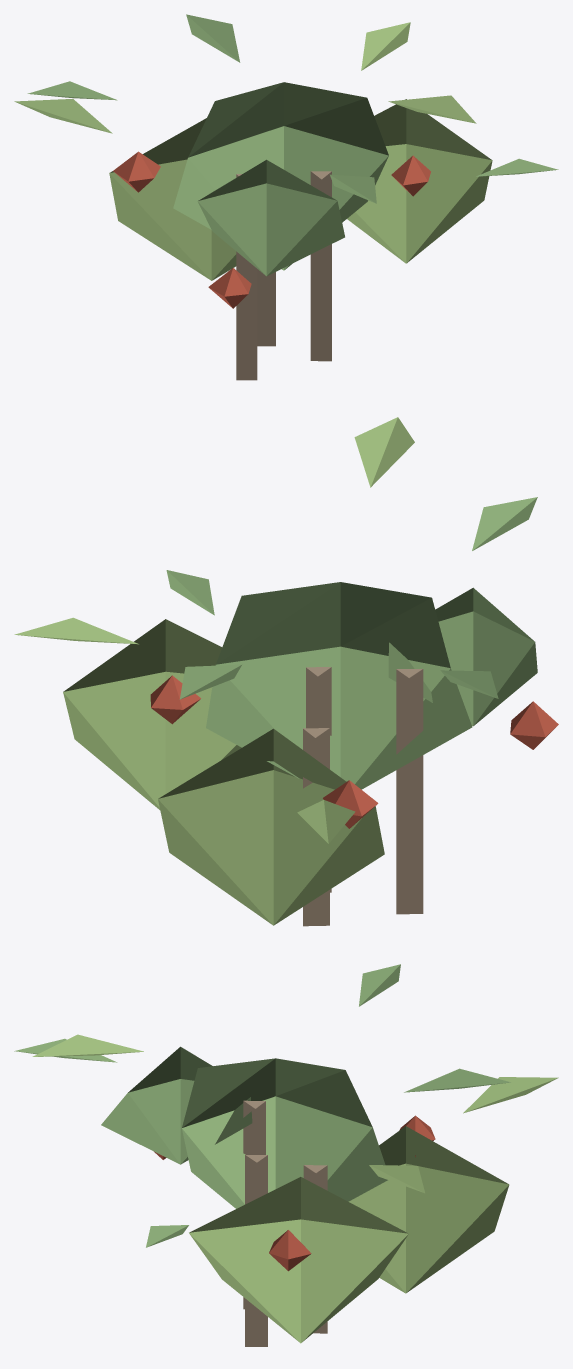
File: guan.zhen__spring.glb
3 views of the same model, one above another, from view 1: azimuth 30°, elevation 25°; view 2: azimuth 150°, elevation 25°; view 3: azimuth 270°, elevation 25° (orthographic). The views are drawn at different scales.
Visible parts, largest first — view 1: guan.zhen__spring; view 2: guan.zhen__spring; view 3: guan.zhen__spring.
Part boxes in pixels (x1,y1,x2,y2): guan.zhen__spring: [14, 14, 558, 380]; guan.zhen__spring: [14, 417, 558, 926]; guan.zhen__spring: [14, 964, 558, 1346].
Bounding box in the file's own units: 2.66 × 1.93 × 2.98.
